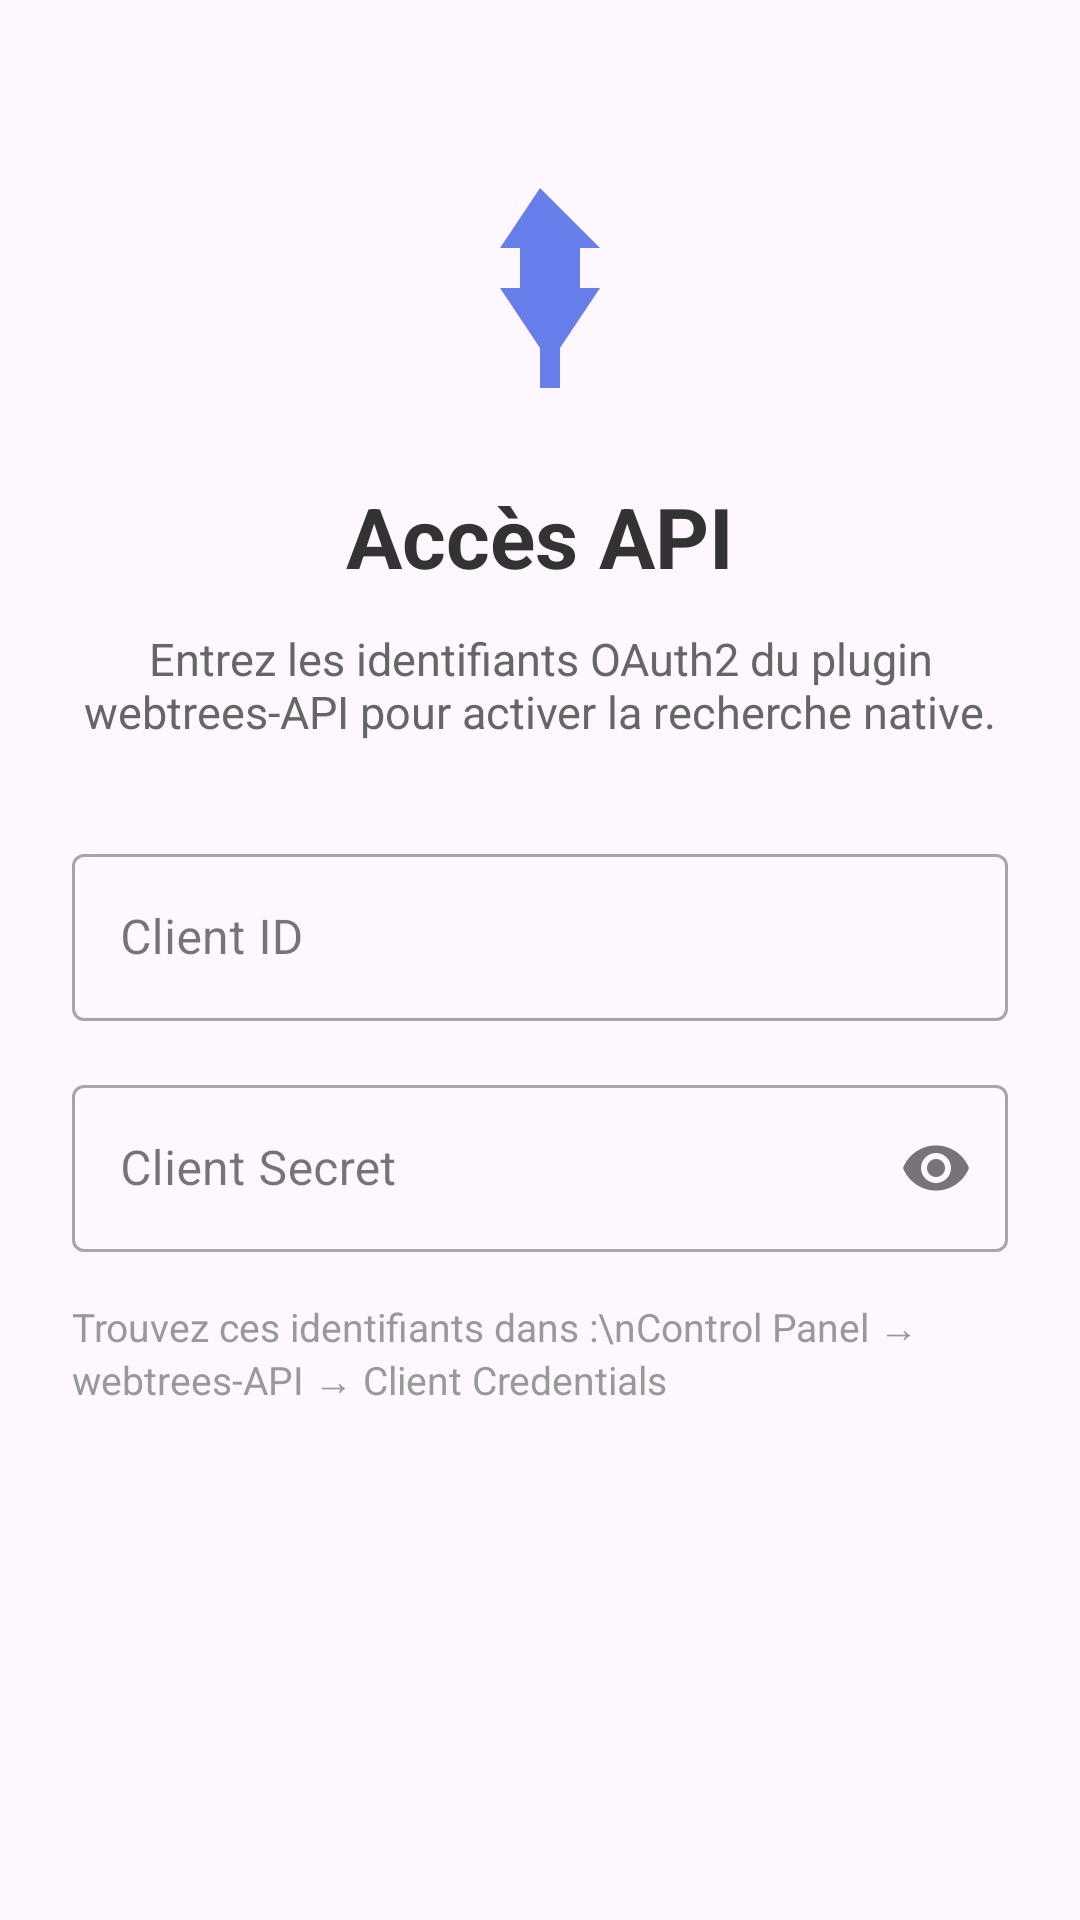

Icon bounding boxes for this 1080 x 1920 phone screenshot, format BBox(x1, y1, x2, y2):
tree: BBox(500, 188, 600, 388)
